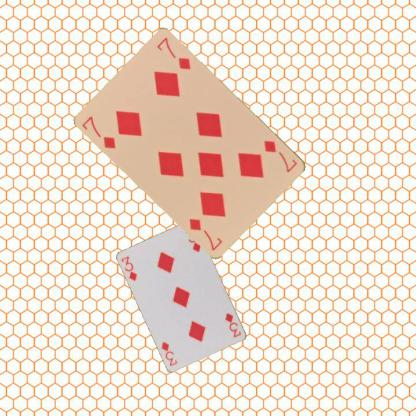3d: (222, 310, 242, 339), (119, 254, 139, 283)
7d: (79, 113, 117, 150), (262, 137, 298, 174)
